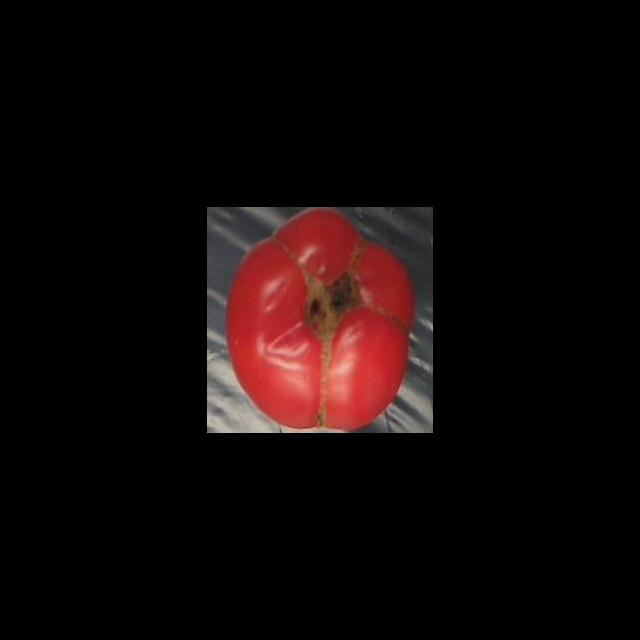tomato: (223, 208, 419, 433)
